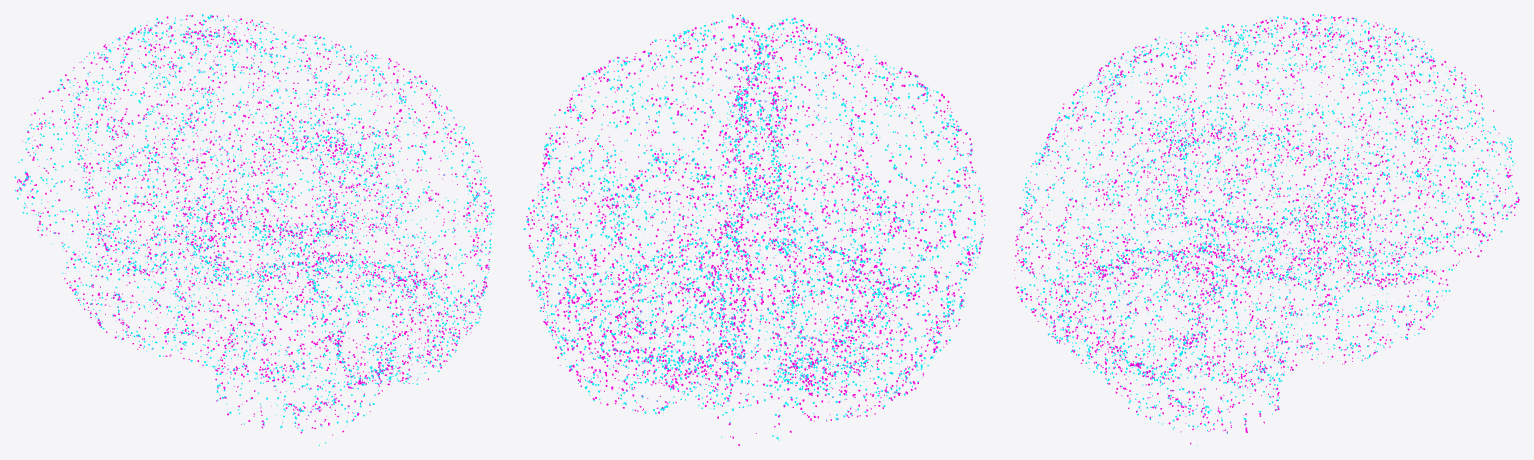
The model's file is brain_hologram.glb.
3 renders of one model, left to right at view 1: azimuth 30°, elevation 25°; view 2: azimuth 150°, elevation 25°; view 3: azimuth 270°, elevation 25°, orthographic. The views are drawn at different scales.
Parts seen in each view (by area): view 1: Icosphere.001; view 2: Icosphere.001; view 3: Icosphere.001.
Part boxes in pixels (x1,y1,x2,y2): Icosphere.001: (14,14,494,445); Icosphere.001: (523,14,985,445); Icosphere.001: (1014,14,1519,445).
Bounding box in the file's own units: 1.09 × 1.1 × 1.3.
